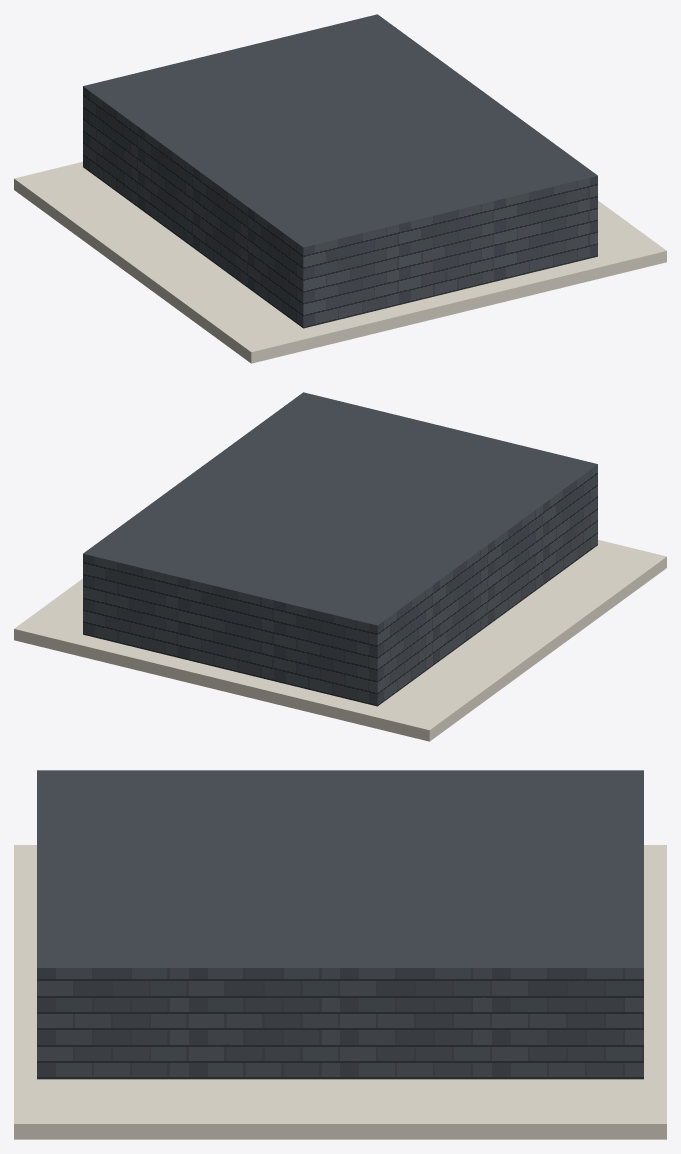
File: roof-flat-9.obj
3 renders of one model, top to bottom at view 1: azimuth 30°, elevation 25°; view 2: azimuth 150°, elevation 25°; view 3: azimuth 270°, elevation 25°, orthographic. The views are drawn at different scales.
Visible parts, largest first — view 1: part2, part1.nocast; view 2: part2, part1.nocast; view 3: part2, part1.nocast.
Boxes of the visible parts, left/top/right/bottom form: part2: left=83, top=14, right=597, bottom=328; part1.nocast: left=14, top=162, right=666, bottom=363; part2: left=83, top=392, right=597, bottom=706; part1.nocast: left=14, top=540, right=666, bottom=741; part2: left=37, top=770, right=643, bottom=1079; part1.nocast: left=14, top=845, right=666, bottom=1139.
Size of the model in its own units: 9.14 by 2 by 9.04.
2 materials, 1 textured.
